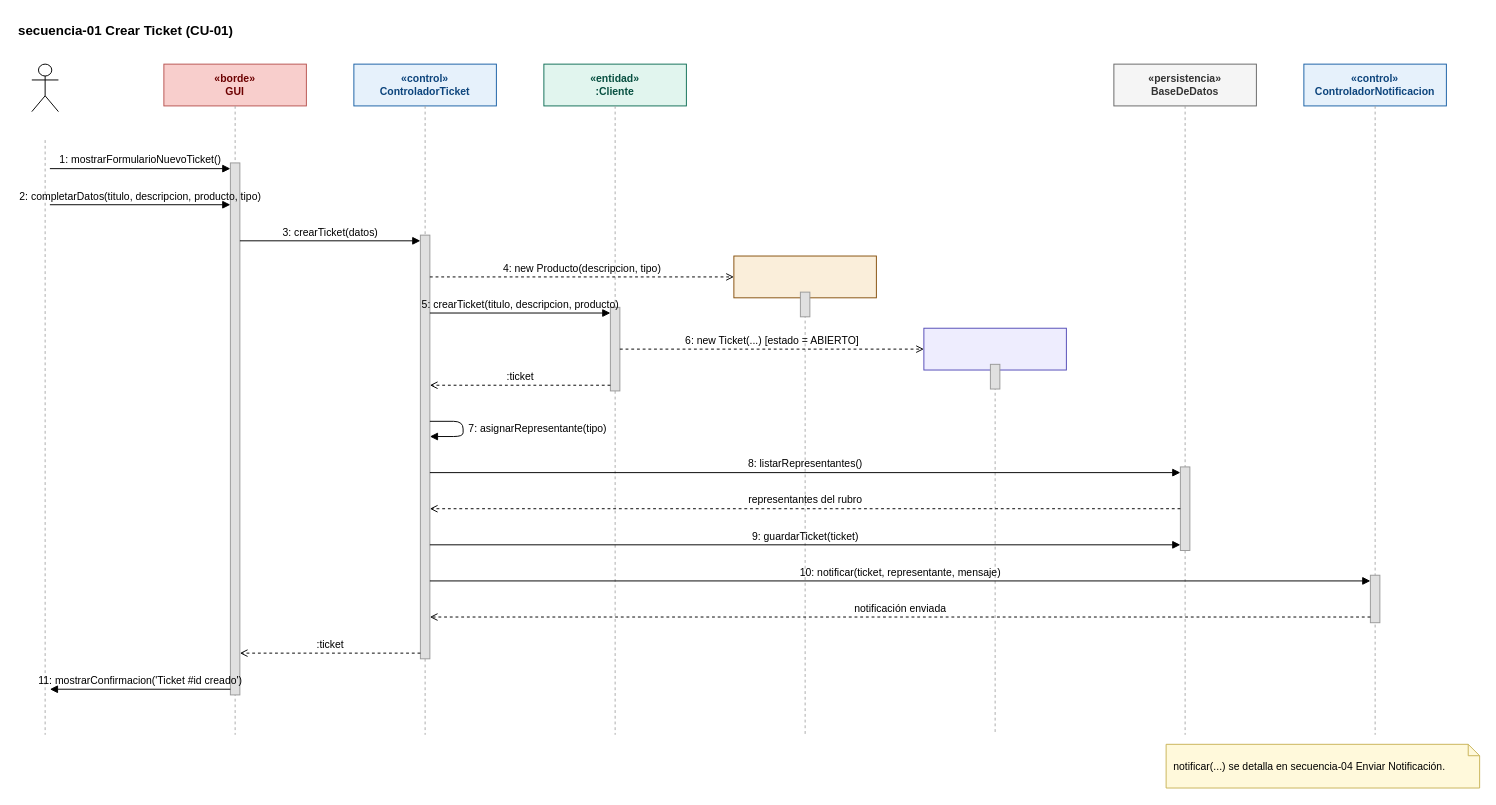
Some shapes in this 1496 by 805 pixel diagram are drawn without their labels. Each missing label, with the box of its shape:
Cliente: (31, 63, 58, 112)
«entidad» :Producto: (733, 255, 876, 298)
«entidad» :Ticket: (923, 327, 1066, 370)
